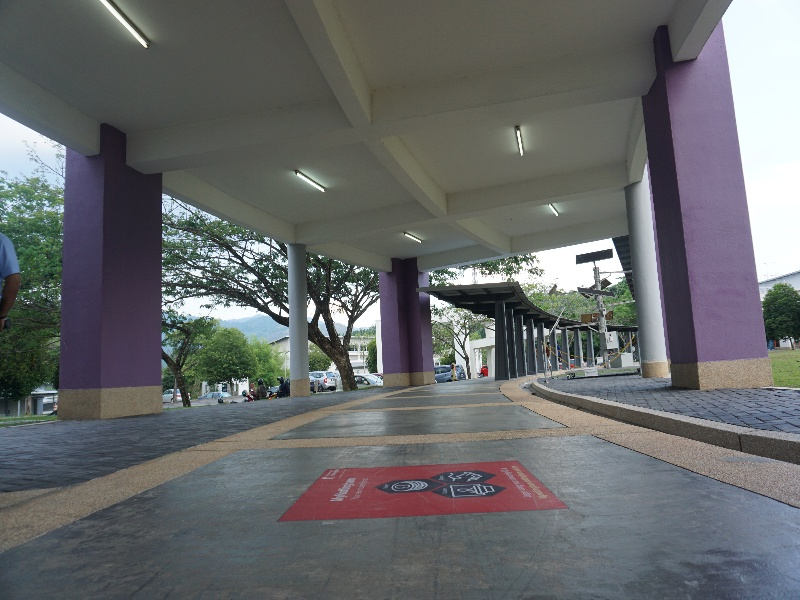Block D Pillar 4: (5, 5, 800, 513)
pillar: (632, 14, 784, 398), (52, 110, 179, 440), (380, 244, 439, 398), (274, 239, 322, 403)
